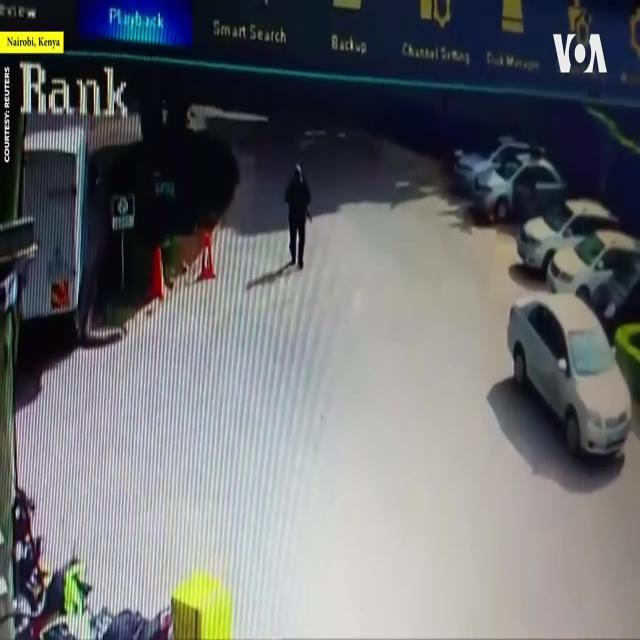Weapon: (290, 174, 318, 235)
